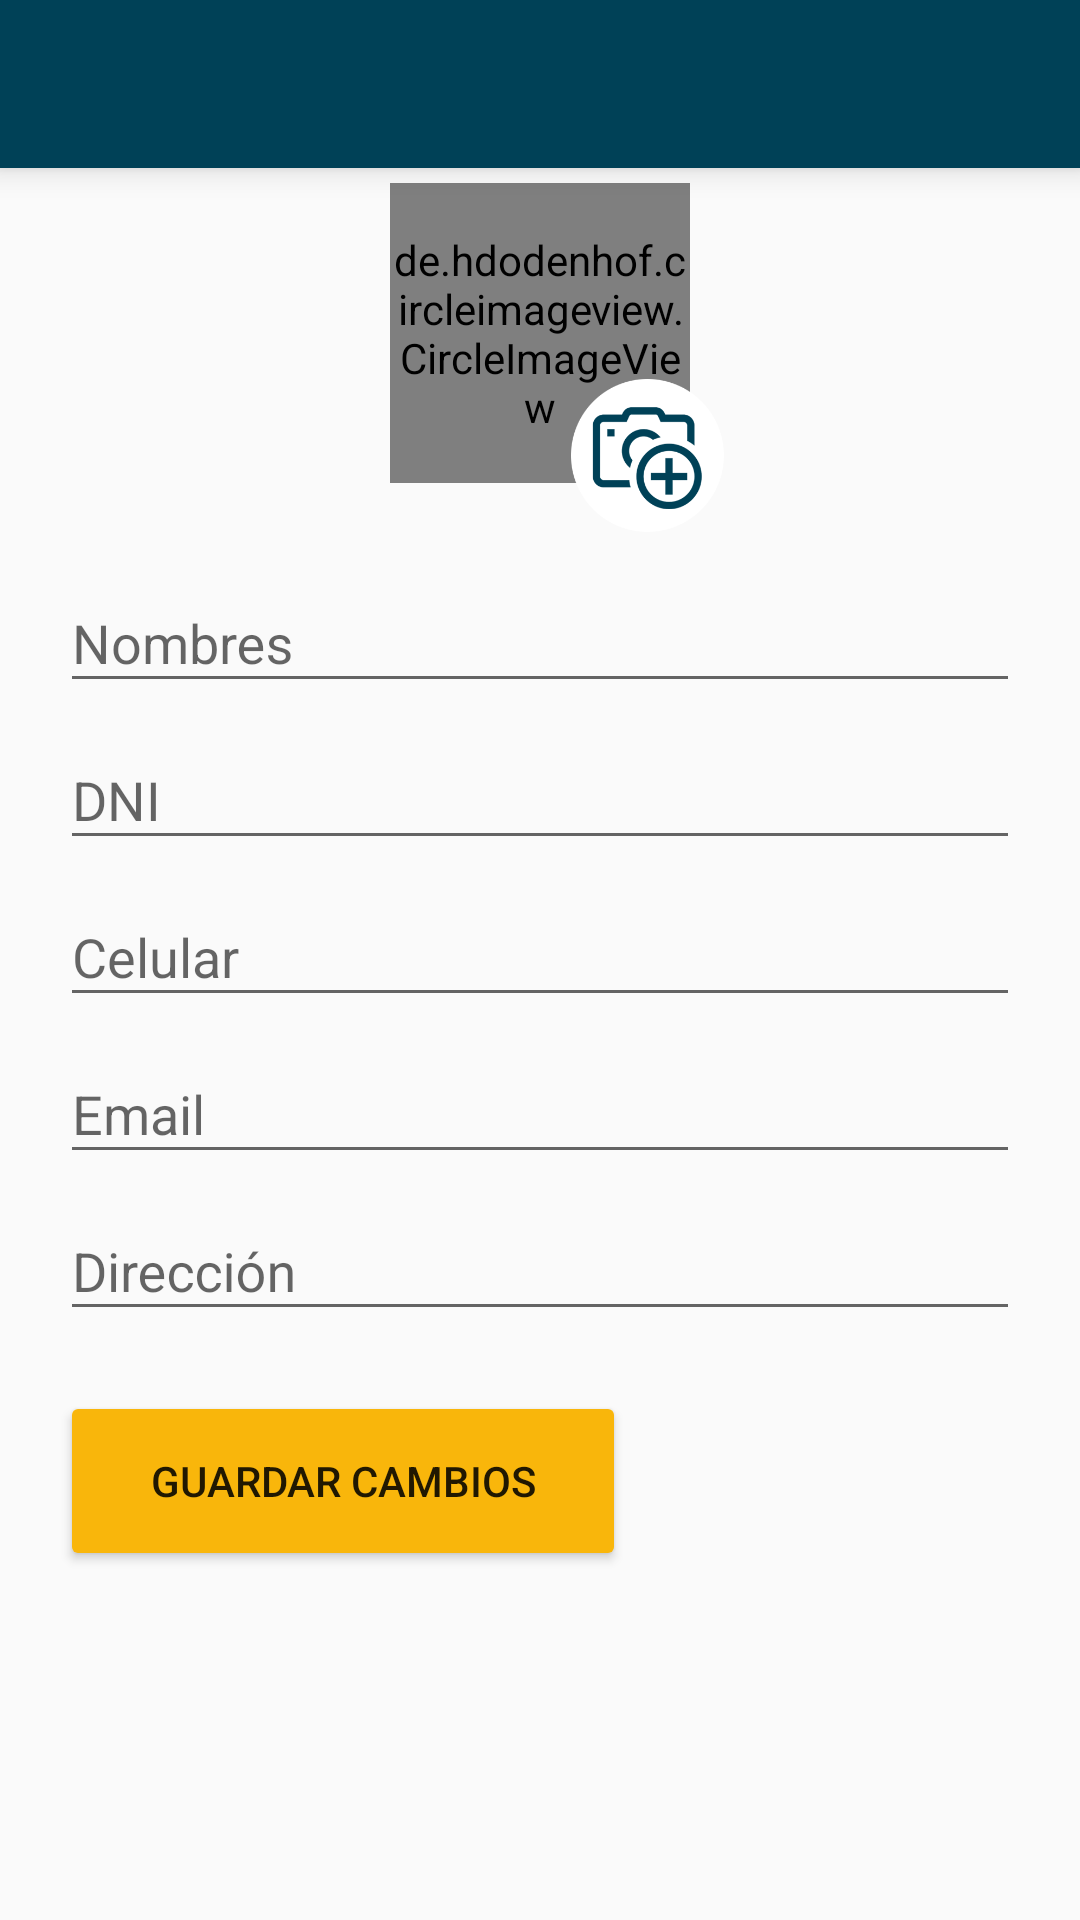

Icons on this 1080px x 1920px Android screen, each with its box as {"left": x1, "top": y1, "right": x2, "bottom": y2}:
photos add: {"left": 558, "top": 366, "right": 702, "bottom": 509}
